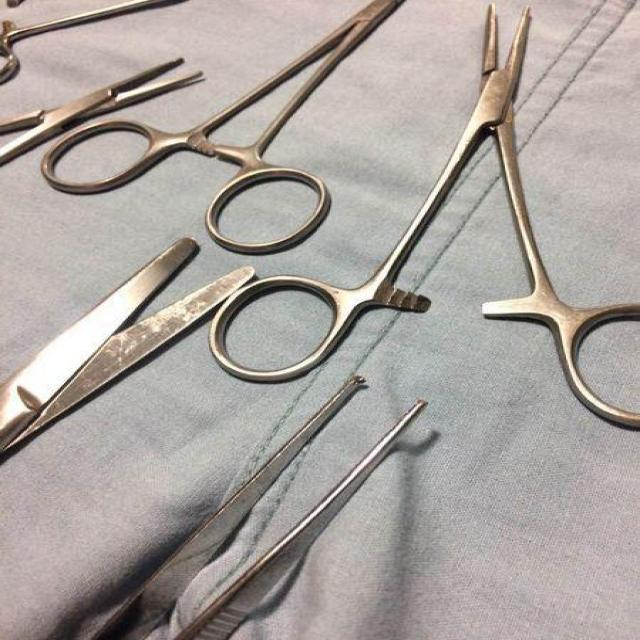Forceps: (92, 370, 431, 640)
Hemostat: (207, 0, 640, 437), (44, 0, 403, 258), (5, 54, 204, 164)
Mayo_metz: (7, 230, 263, 465)
